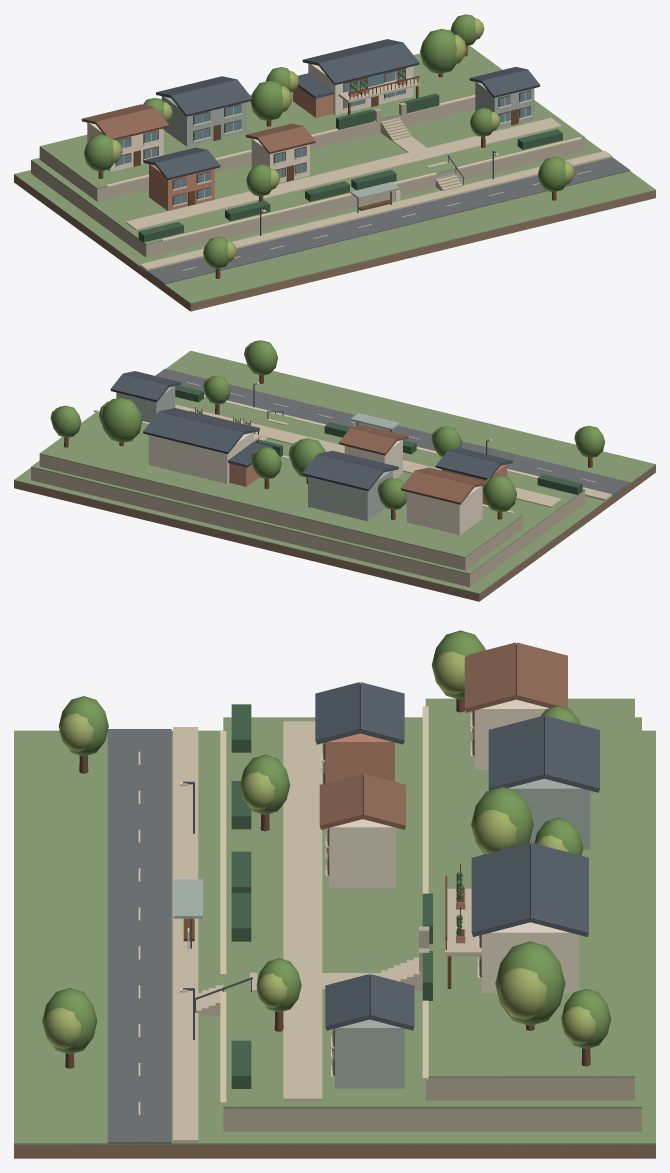
File: wakaba-highland.glb
The picture shows the model from 3 angles, top to bottom: view 1: azimuth 30°, elevation 25°; view 2: azimuth 150°, elevation 25°; view 3: azimuth 270°, elevation 25°; orthographic projection. The views are drawn at different scales.
Parts seen in each view (by area): view 1: Terraces-stairs-and-bus-stop, Neighborhood-houses, Street-and-garden-trees, Wakaba-house-and-balcony; view 2: Terraces-stairs-and-bus-stop, Neighborhood-houses, Street-and-garden-trees, Wakaba-house-and-balcony; view 3: Terraces-stairs-and-bus-stop, Neighborhood-houses, Street-and-garden-trees, Wakaba-house-and-balcony.
Boxes of the visible parts, left/top/right/bottom form: Terraces-stairs-and-bus-stop: left=14, top=45, right=655, bottom=311; Neighborhood-houses: left=81, top=67, right=540, bottom=210; Street-and-garden-trees: left=84, top=14, right=574, bottom=278; Wakaba-house-and-balcony: left=293, top=39, right=439, bottom=129; Terraces-stairs-and-bus-stop: left=14, top=350, right=655, bottom=601; Neighborhood-houses: left=110, top=371, right=512, bottom=535; Street-and-garden-trees: left=50, top=340, right=604, bottom=519; Wakaba-house-and-balcony: left=143, top=408, right=282, bottom=486; Terraces-stairs-and-bus-stop: left=14, top=698, right=655, bottom=1158; Neighborhood-houses: left=315, top=642, right=599, bottom=1088; Street-and-garden-trees: left=42, top=630, right=611, bottom=1068; Wakaba-house-and-balcony: left=419, top=842, right=588, bottom=1000.
Bounding box in the file's own units: 70 × 11.84 × 46.
